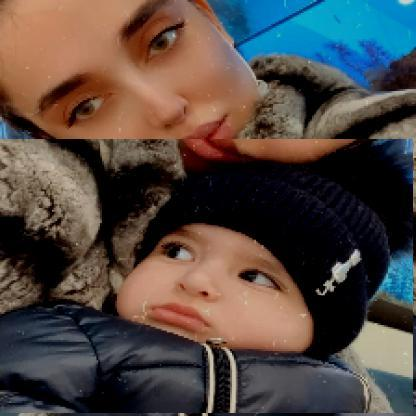child: (1, 140, 415, 415)
